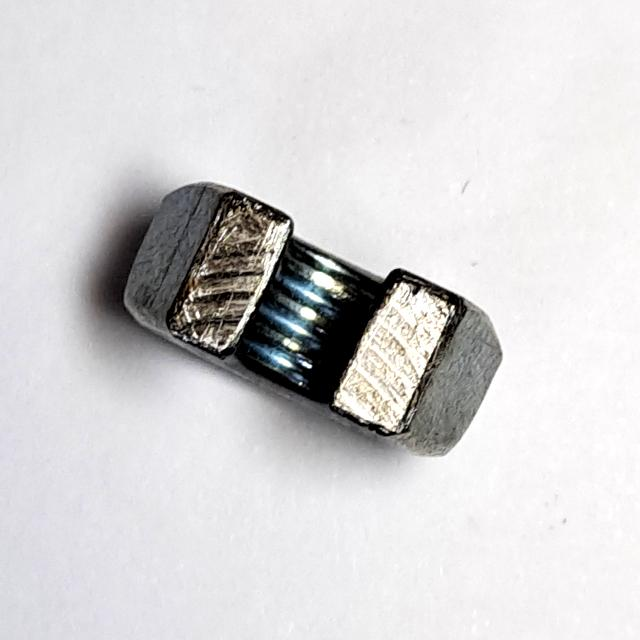Side-Fracture: (111, 166, 524, 477)
